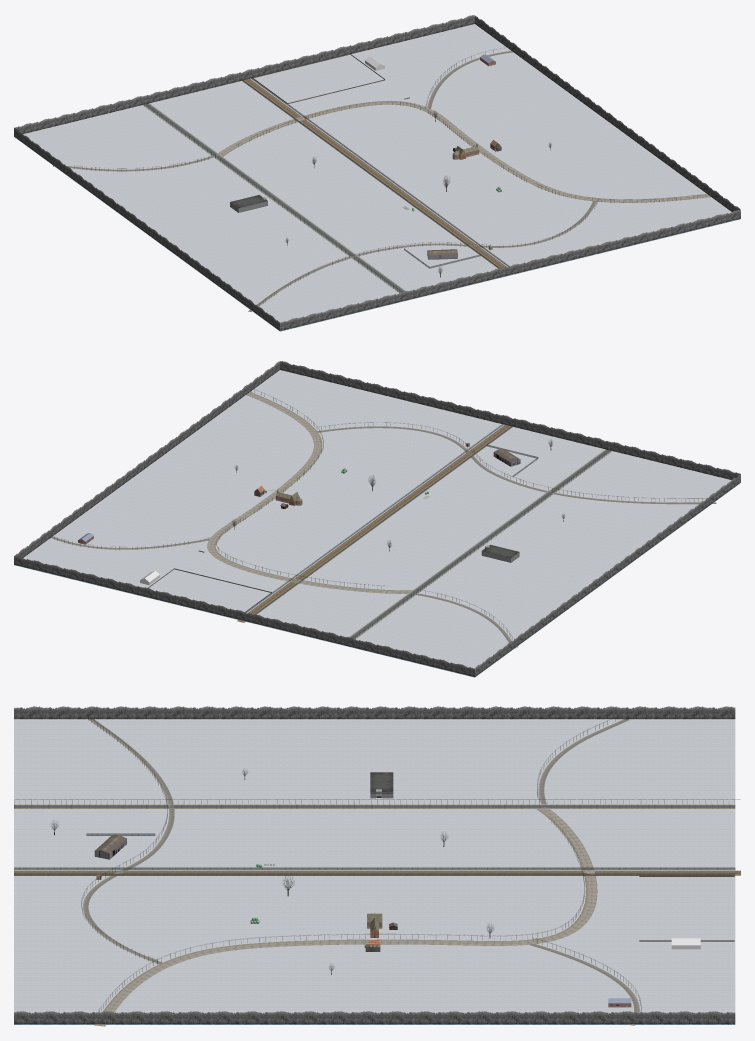
The model's file is map.glb.
3 views of the same model, one above another, from view 1: azimuth 30°, elevation 25°; view 2: azimuth 150°, elevation 25°; view 3: azimuth 270°, elevation 25° (orthographic). The views are drawn at different scales.
Parts seen in each view (by area): view 1: Floor, Forestedge, Forestedge.002, Plane, Forestedge.003, Forestedge.001, Plane.002, Rail, Plane.005, Ice, Greenfence.002, Greenfence.001; view 2: Floor, Forestedge, Forestedge.002, Plane, Forestedge.003, Forestedge.001, Plane.002, Rail, Plane.005, Ice, Greenfence.001, Greenfence.002; view 3: Floor, Forestedge.001, Forestedge.003, Plane, Rail, Plane.002, Greenfence.002, Greenfence.001, Plane.005, Plane.007, Ice, Plane.001 (+3 smaller).
Boxes of the visible parts, box(x1,y1,x2,y2) form: Floor: box(23, 24, 731, 322); Forestedge: box(280, 210, 740, 330); Forestedge.002: box(14, 15, 474, 133); Plane: box(216, 101, 710, 202); Forestedge.003: box(14, 128, 279, 330); Forestedge.001: box(475, 15, 740, 211); Plane.002: box(142, 103, 405, 293); Rail: box(243, 79, 507, 268); Plane.005: box(248, 201, 596, 311); Ice: box(14, 137, 740, 331); Greenfence.002: box(241, 79, 500, 268); Greenfence.001: box(251, 77, 509, 266); Floor: box(23, 370, 731, 668); Forestedge: box(280, 361, 740, 479); Forestedge.002: box(14, 556, 474, 676); Plane: box(207, 392, 412, 593); Forestedge.003: box(475, 474, 740, 676); Forestedge.001: box(14, 361, 279, 557); Plane.002: box(349, 449, 612, 639); Rail: box(237, 425, 511, 622); Plane.005: box(317, 426, 716, 504); Ice: box(14, 483, 740, 677); Greenfence.001: box(245, 423, 503, 612); Greenfence.002: box(254, 425, 513, 614); Floor: box(14, 719, 735, 1013); Forestedge.001: box(14, 1011, 735, 1024); Forestedge.003: box(14, 706, 735, 719); Plane: box(94, 807, 597, 1026); Rail: box(14, 870, 740, 875); Plane.002: box(14, 804, 735, 808); Greenfence.002: box(14, 867, 735, 869); Greenfence.001: box(14, 873, 735, 875); Plane.005: box(83, 719, 174, 964); Plane.007: box(14, 799, 739, 803); Ice: box(14, 1024, 735, 1024); Plane.001: box(98, 822, 585, 1012).
Bounding box in the file's own units: 509 × 18 × 504.
32 materials, 32 textured.
